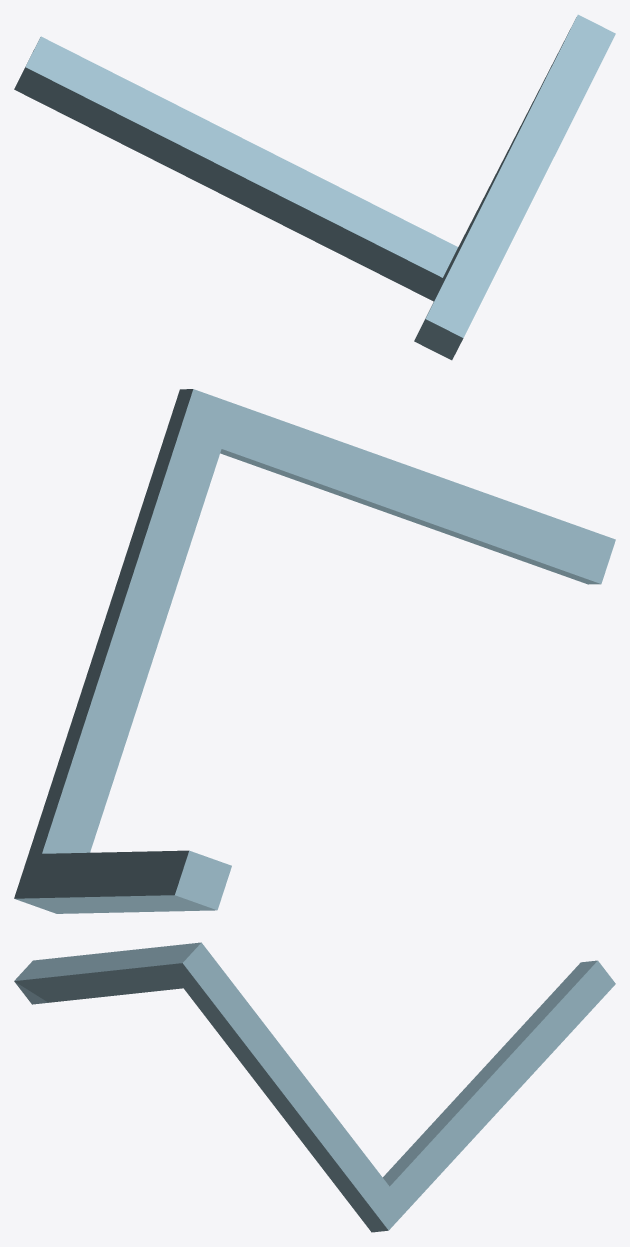
Rendered from triangle.gltf.
3 renders of one model, top to bottom at view 1: azimuth 30°, elevation 25°; view 2: azimuth 150°, elevation 25°; view 3: azimuth 270°, elevation 25°, orthographic. The views are drawn at different scales.
Visible parts, largest first — view 1: Cube; view 2: Cube; view 3: Cube.
Boxes of the visible parts, x1,y1,x2,y2 form: Cube: (14,14,615,360); Cube: (14,389,615,913); Cube: (14,942,615,1232).
Bounding box in the file's own units: 4.14 × 4.72 × 8.97.
